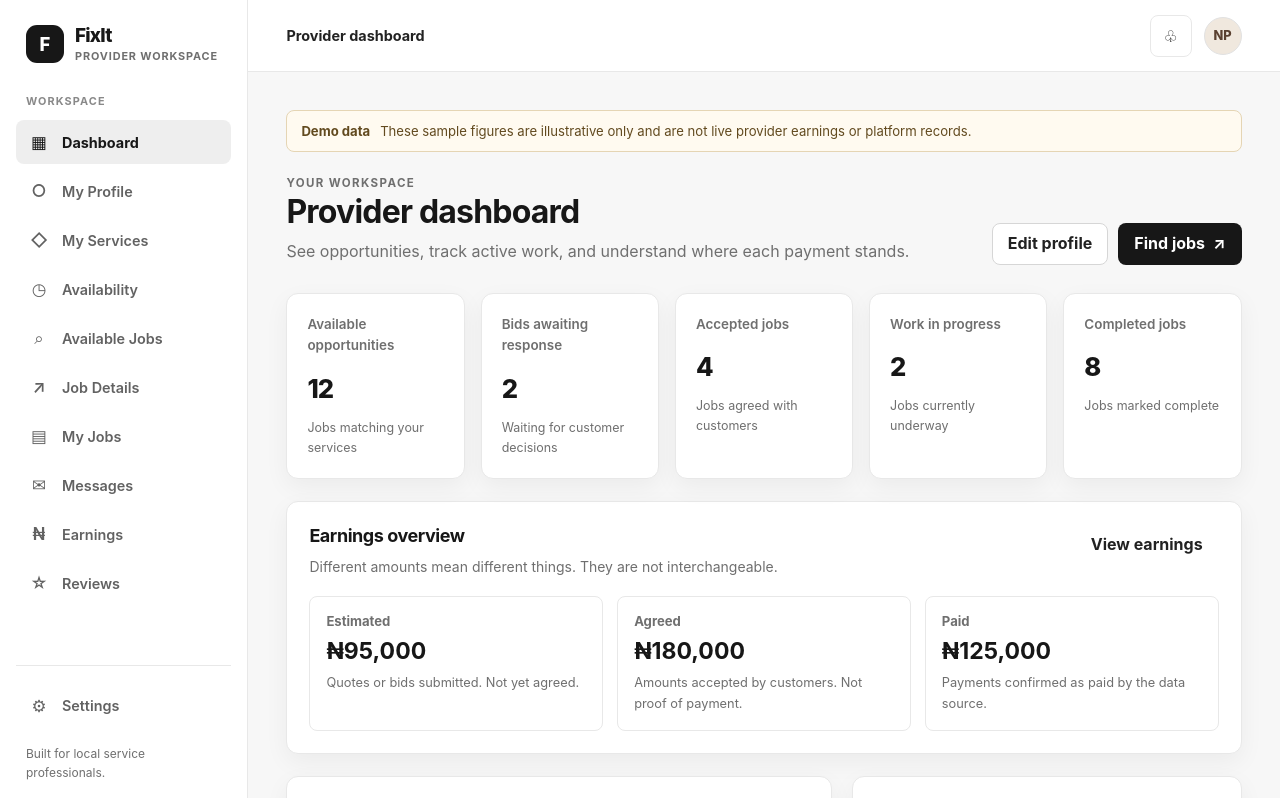
Test: provider workspace navigation › opens the My Profile screen and marks it active
The image size is (1280, 798).
Click the text "My Profile" at (97, 191), box left=62, top=183, right=133, bottom=200
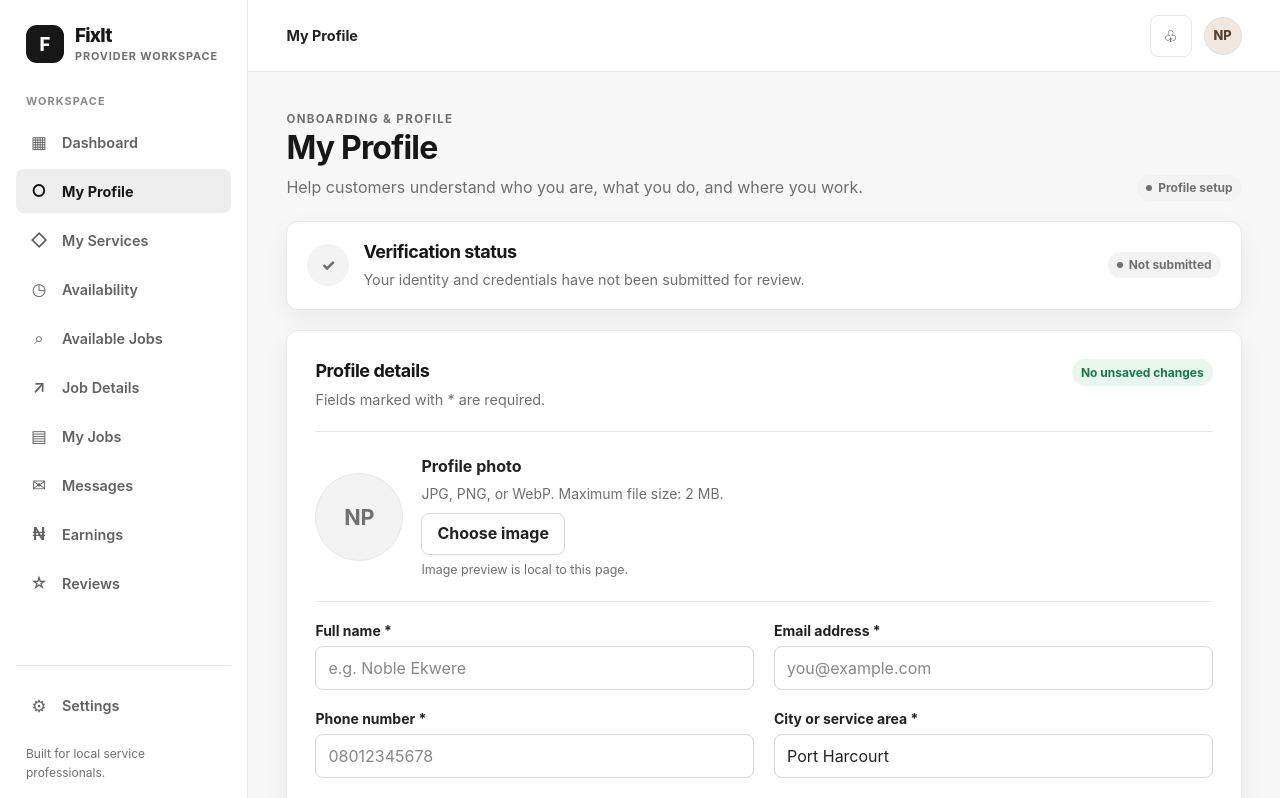
Now the heading "My Profile" is shown, box left=286, top=128, right=437, bottom=167
